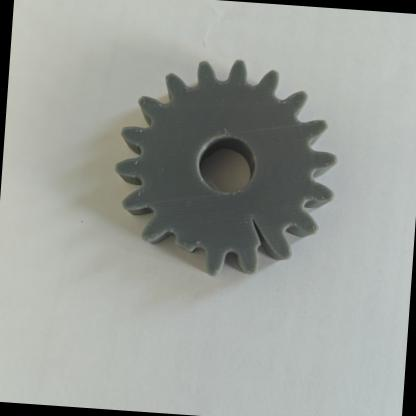defect: (231, 193, 299, 276), (142, 208, 216, 278)
gear: (96, 40, 362, 308)
